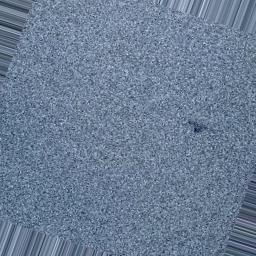Airplane: (187, 118, 210, 134)
